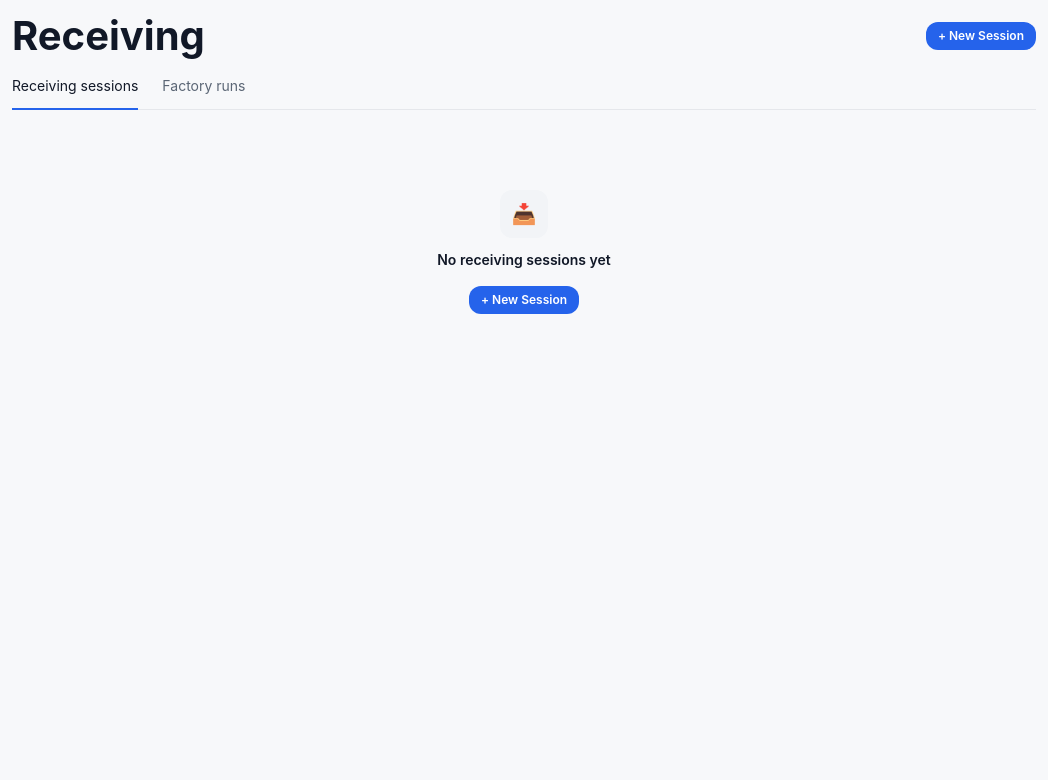
Test case: Receiving › count only session › c4 — finished: N added as untagged, +N per variant, Shopify updated, no labels
What coordinates should you click on to do the following:
click the 1st button "+ New Session"
I would click on:
 (981, 36)
Its box is [926,22,1036,50].
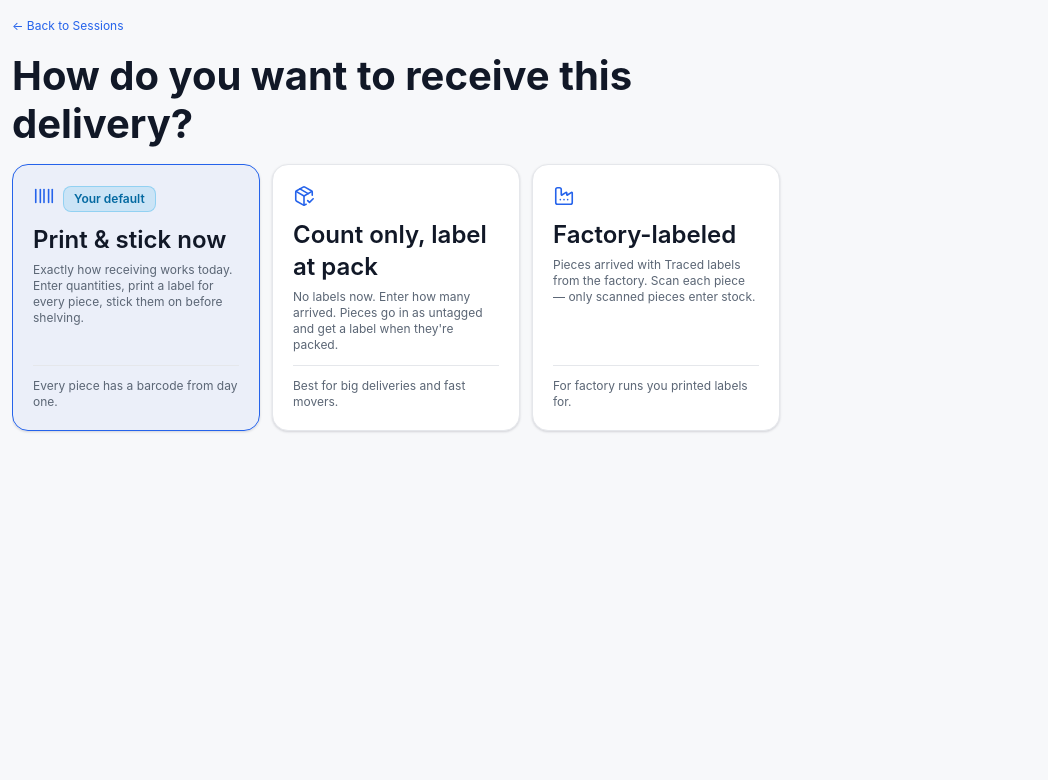
What coordinates should you click on to do the following:
click the button with test id "receiving-mode-count_only"
I would click on:
 (396, 298)
Its box is [272,164,520,431].
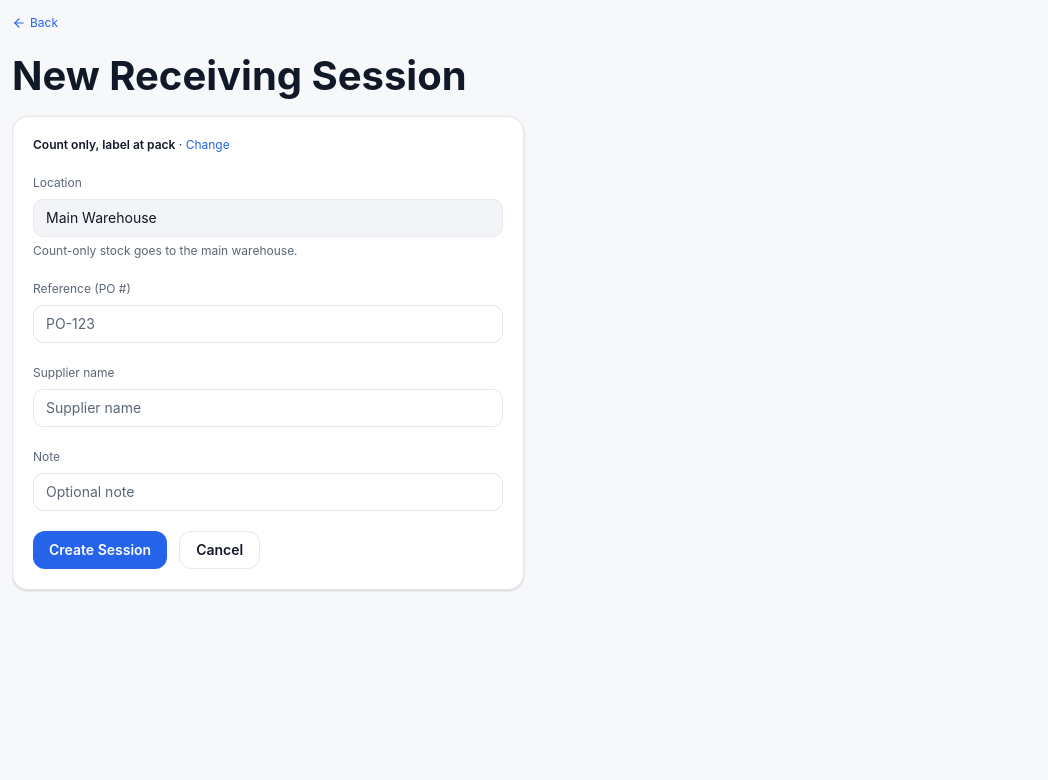
What coordinates should you click on to do the following:
click the button "Create Session"
I would click on:
 (100, 550)
Its box is [33,531,167,569].
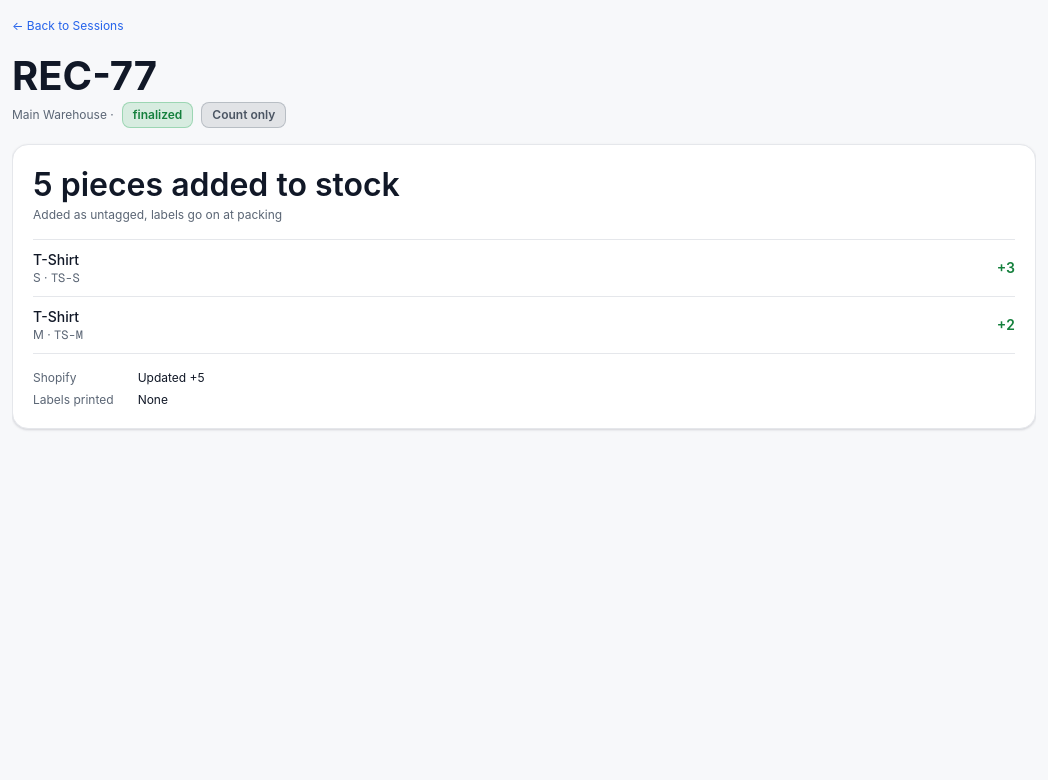
Expected: the element with test id "count-only-done" shows "5 pieces added to stock", [33,165,400,204]
Expected: the element with test id "count-only-done" shows "Added as untagged, labels go on at packing", [33,207,282,222]
Expected: the element with test id "count-only-done" shows "+3", [12,144,1036,429]
